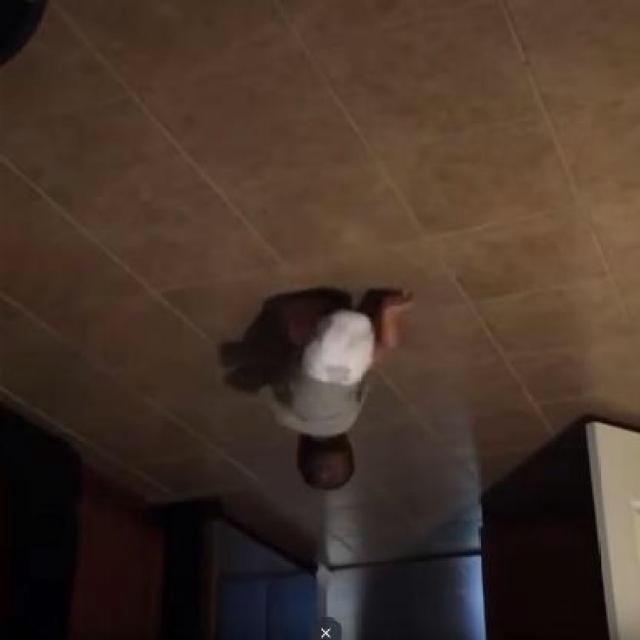child: (266, 288, 417, 492)
